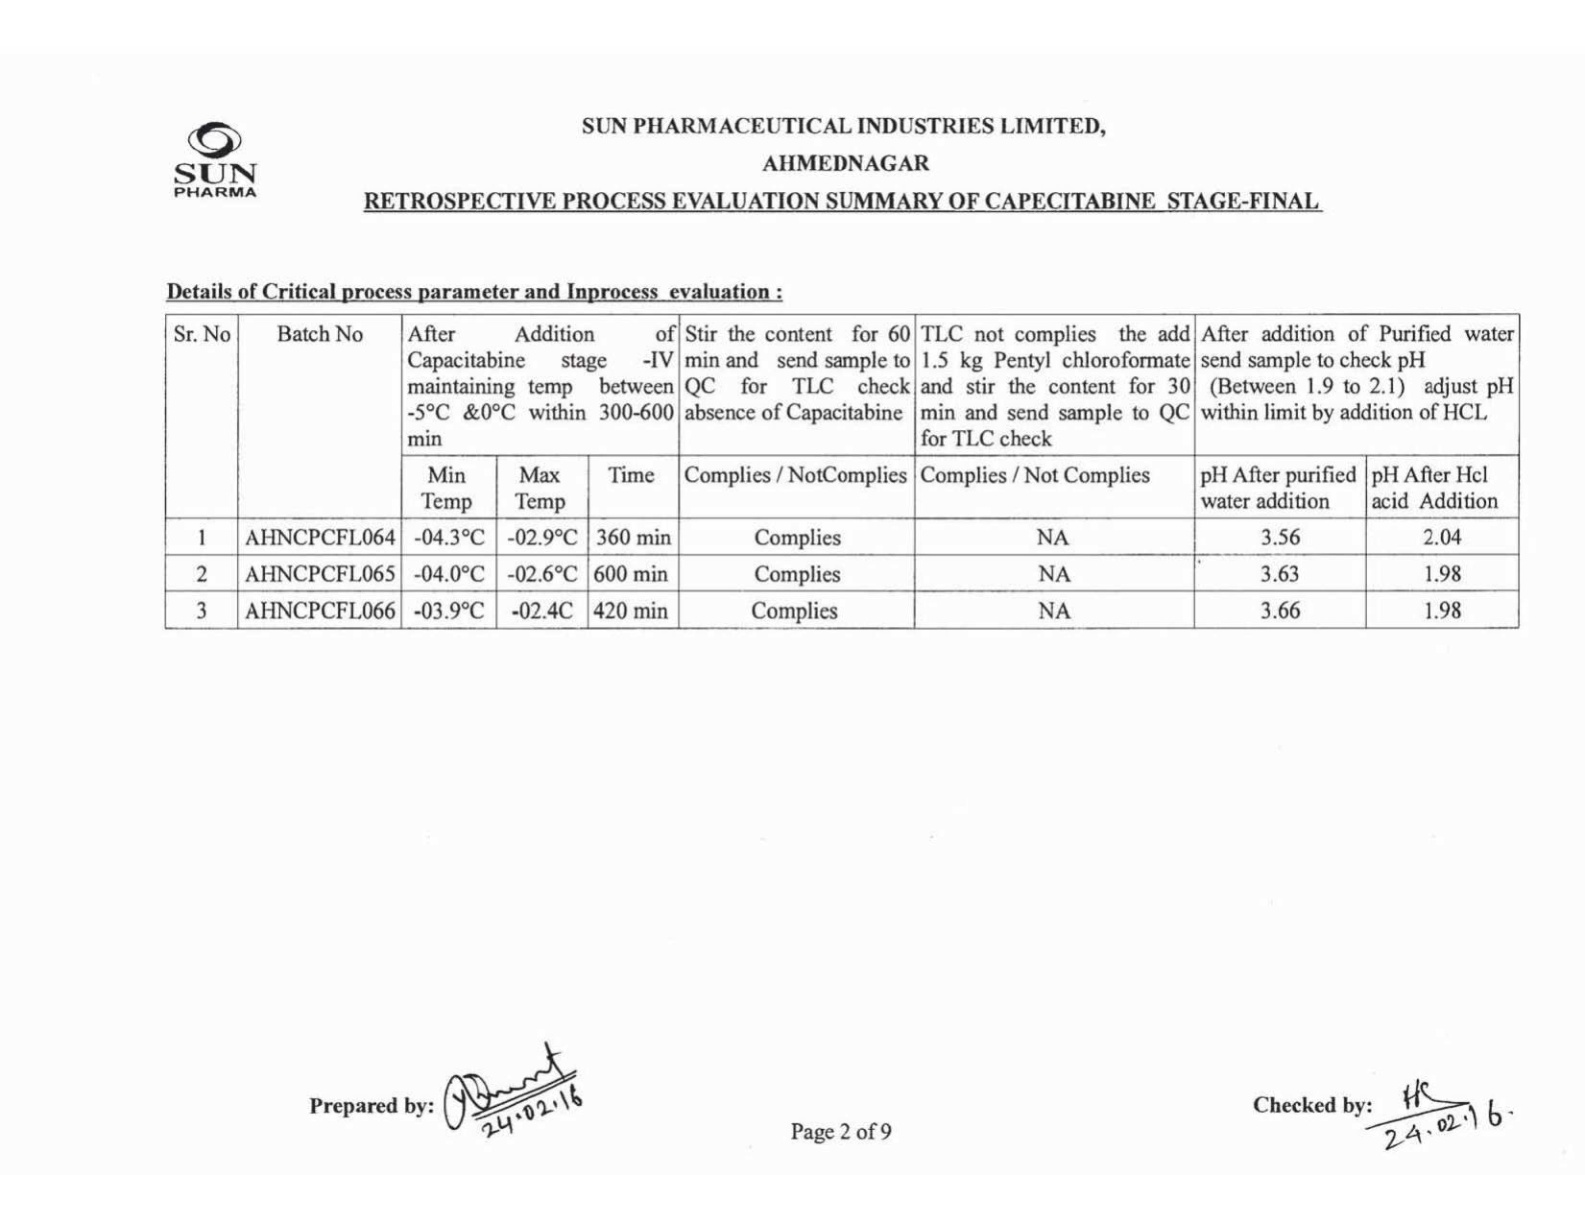merged_cells: (163, 312, 1521, 631)
